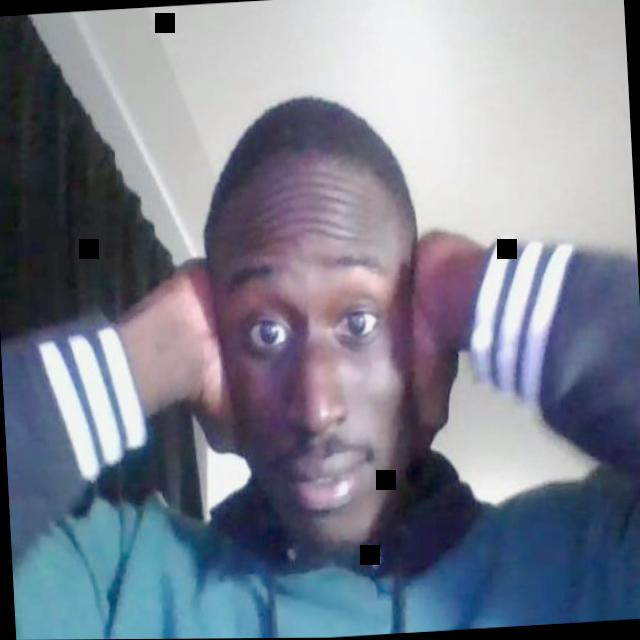NO-Mask: (204, 207, 425, 558)
